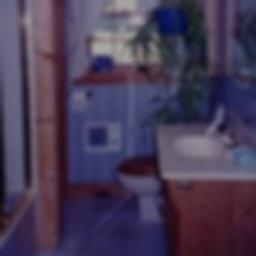Lavamanos: (166, 127, 234, 165)
Puerta: (32, 1, 67, 245)
Sanitario: (116, 152, 154, 221)
